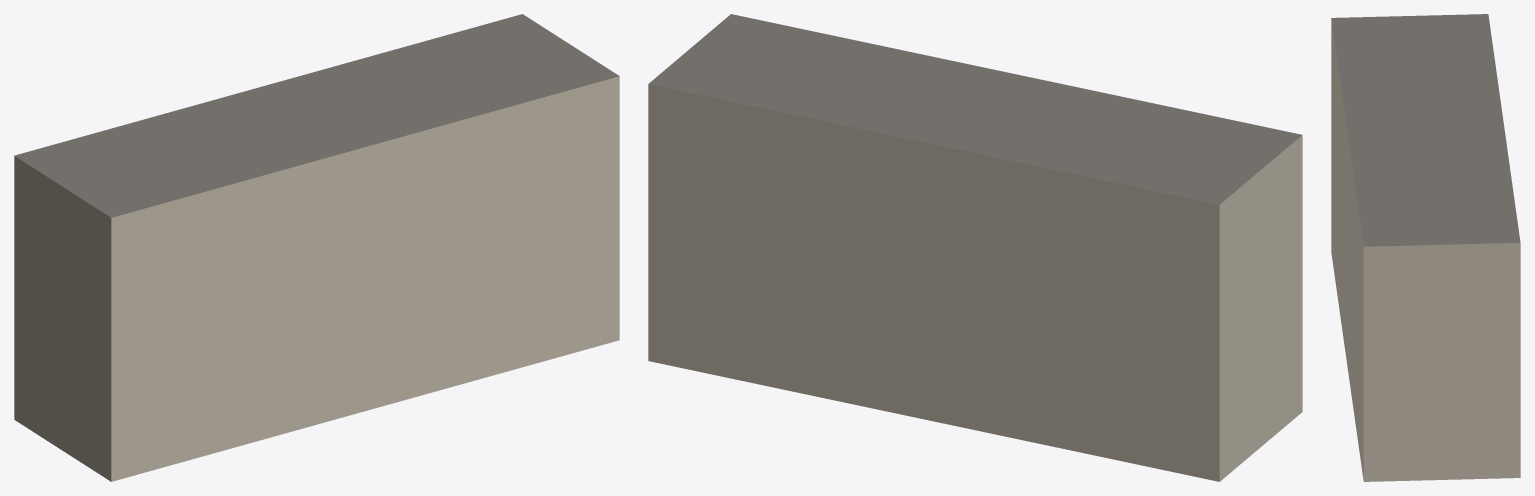
3 renders of one model, left to right at view 1: azimuth 30°, elevation 25°; view 2: azimuth 150°, elevation 25°; view 3: azimuth 270°, elevation 25°, orthographic. The views are drawn at different scales.
Visible parts, largest first — view 1: HP-w858824312; view 2: HP-w858824312; view 3: HP-w858824312.
Boxes of the visible parts, x1,y1,x2,y2 form: HP-w858824312: (14, 14, 619, 481); HP-w858824312: (648, 14, 1302, 481); HP-w858824312: (1331, 14, 1520, 481).
Bounding box in the file's own units: 38.21 × 18 × 13.12.
